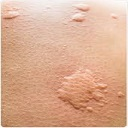Hives: (60, 71, 104, 111), (70, 4, 93, 19), (3, 5, 22, 21)
